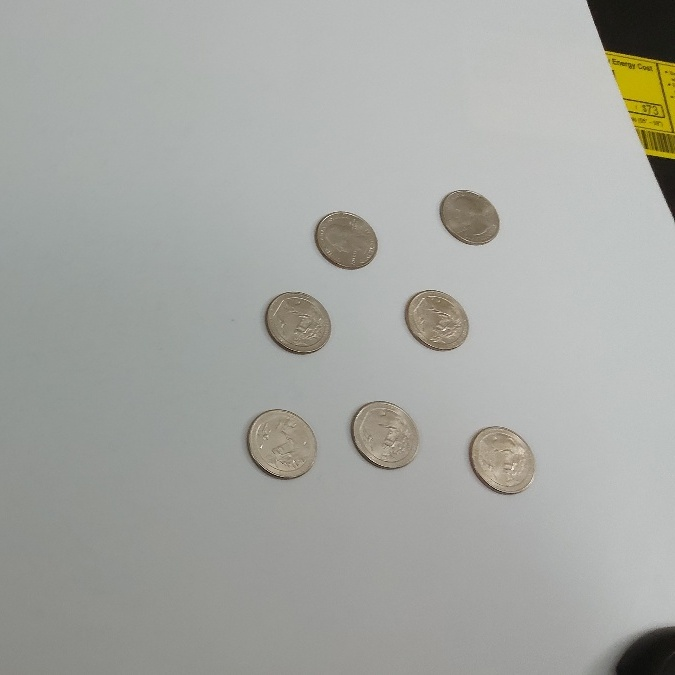coin_quarter: (244, 408, 319, 483), (466, 423, 541, 498), (346, 395, 420, 471), (401, 281, 469, 354), (313, 203, 381, 276), (262, 286, 333, 353), (436, 186, 502, 249)
